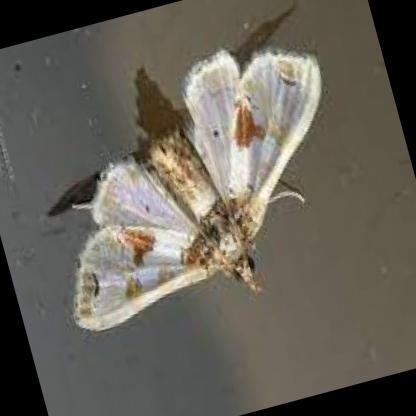leucinodes: (72, 49, 318, 329)
